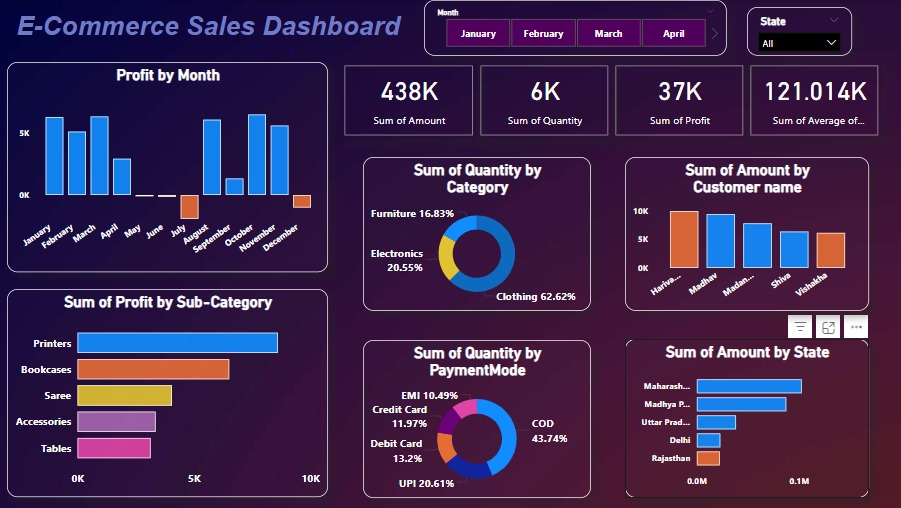

The page's visual inventory and layout, read from the dashboard file:
{"tool":"powerbi","page":{"name":"Page 1","canvas":[1280,720],"ordinal":0},"visuals":[{"type":"textbox","box":[9.9,9.9,569.8,109.1],"z":0},{"type":"columnChart","title":"Profit by Month","fields":{"Category":["Orders for practics.Order Date.Variation.Date Hierarchy.Month"],"Y":["Details for practics.Profit"]},"box":[9.9,87.9,455,297.6],"z":1000},{"type":"barChart","fields":{"Y":["Details for practics.Profit"],"Category":["Details for practics.Sub-Category"]},"box":[9.9,409.6,455,294.8],"z":2000},{"type":"donutChart","fields":{"Category":["Details for practics.Category"],"Y":["Details for practics.Quantity"]},"box":[514.5,222.5,323.1,218.3],"z":3000},{"type":"donutChart","fields":{"Y":["Details for practics.Quantity"],"Category":["Details for practics.PaymentMode"]},"box":[514.5,481.9,323.1,223.9],"z":4000},{"type":"cardVisual","fields":{"Data":["Details for practics.Amount"]},"box":[483.3,87.9,192.8,109.1],"z":5000},{"type":"cardVisual","fields":{"Data":["Details for practics.Quantity"]},"box":[676.1,87.9,191.3,109.1],"z":6000},{"type":"cardVisual","fields":{"Data":["Details for practics.Profit"]},"box":[867.4,87.9,191.3,109.1],"z":7000},{"type":"cardVisual","fields":{"Data":["Details for practics.Average of volue"]},"box":[1058.7,87.9,191.3,109.1],"z":8000},{"type":"barChart","fields":{"Category":["Orders for practics.State"],"Y":["Details for practics.Amount"]},"box":[885.8,480.5,345.8,225.4],"z":9000},{"type":"columnChart","fields":{"Category":["Orders for practics.Customer name"],"Y":["Details for practics.Amount"]},"box":[885.8,222.5,345.8,218.3],"z":10000},{"type":"slicer","fields":{"Values":["Orders for practics.Order Date.Variation.Date Hierarchy.Month"]},"box":[600.9,0,429.4,79.4],"z":11000},{"type":"slicer","fields":{"Values":["Orders for practics.State"]},"box":[1058.7,9.9,148.8,69.4],"z":12000}]}

Visuals, with their boxes in screenshot pixels (x1, y1, x2, y2), scaled from the page's 1280x720 canvas onto the 901x508 screenshot:
textbox: [left=7, top=7, right=408, bottom=84]
"Profit by Month" columnChart: [left=7, top=62, right=327, bottom=272]
barChart - Details for practics.Profit x Details for practics.Sub-Category: [left=7, top=289, right=327, bottom=497]
donutChart - Details for practics.Category x Details for practics.Quantity: [left=362, top=157, right=590, bottom=311]
donutChart - Details for practics.Quantity x Details for practics.PaymentMode: [left=362, top=340, right=590, bottom=498]
cardVisual - Details for practics.Amount: [left=340, top=62, right=476, bottom=139]
cardVisual - Details for practics.Quantity: [left=476, top=62, right=611, bottom=139]
cardVisual - Details for practics.Profit: [left=611, top=62, right=745, bottom=139]
cardVisual - Details for practics.Average of volue: [left=745, top=62, right=880, bottom=139]
barChart - Orders for practics.State x Details for practics.Amount: [left=624, top=339, right=867, bottom=498]
columnChart - Orders for practics.Customer name x Details for practics.Amount: [left=624, top=157, right=867, bottom=311]
slicer - Orders for practics.Order Date.Variation.Date Hierarchy.Month: [left=423, top=0, right=725, bottom=56]
slicer - Orders for practics.State: [left=745, top=7, right=850, bottom=56]
